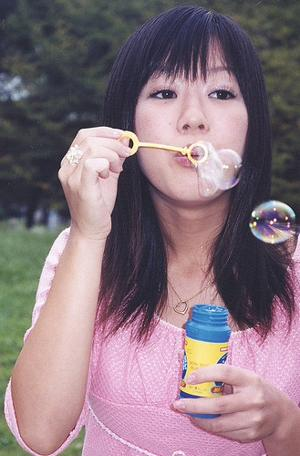person: (6, 5, 300, 456)
